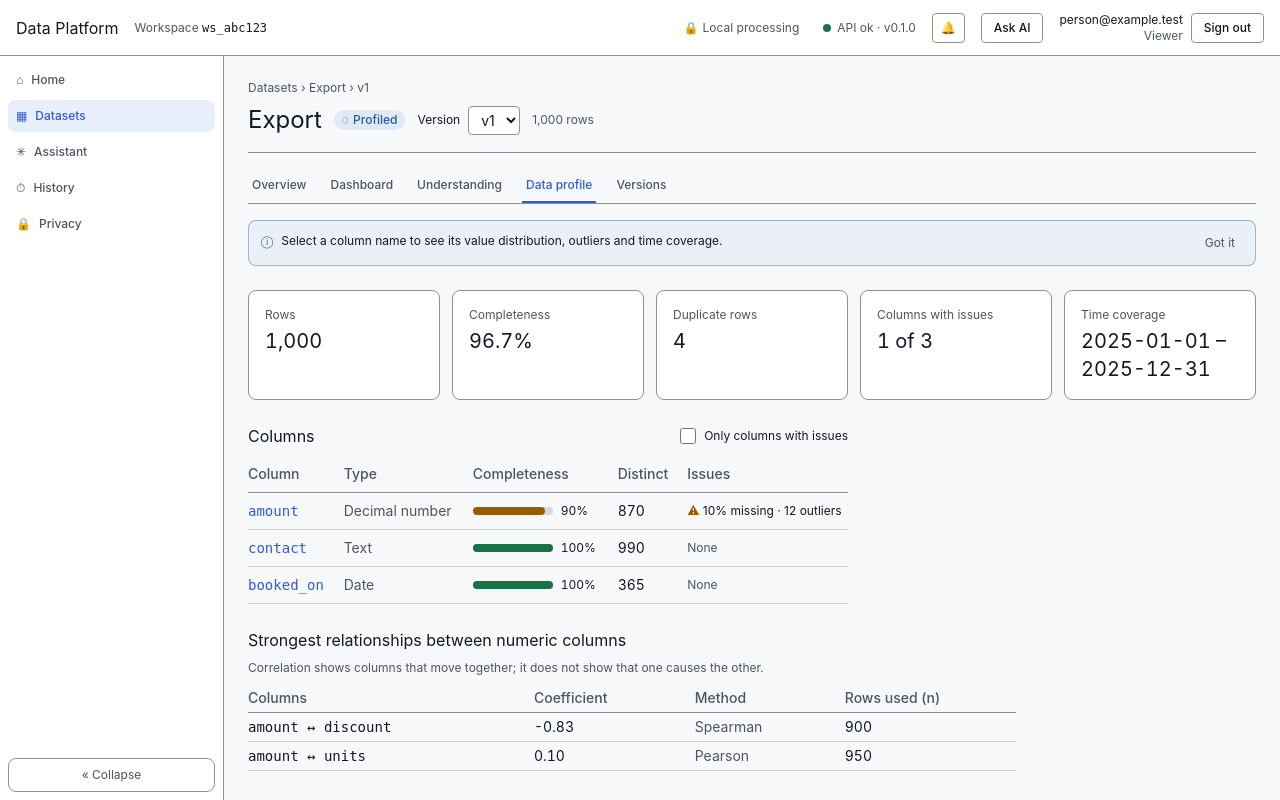
ProfileViewer (TASK-UI-006) › lists columns with type, completeness, distinct count and issues; filters by issues
Expected: the row "amount Decimal number 90% 870 ⚠ 10% missing · 12 outliers" is shown, [248,493,848,530]
Click the checkbox labelled "Only columns with issues".
click(688, 436)  # box [680,428,696,444]
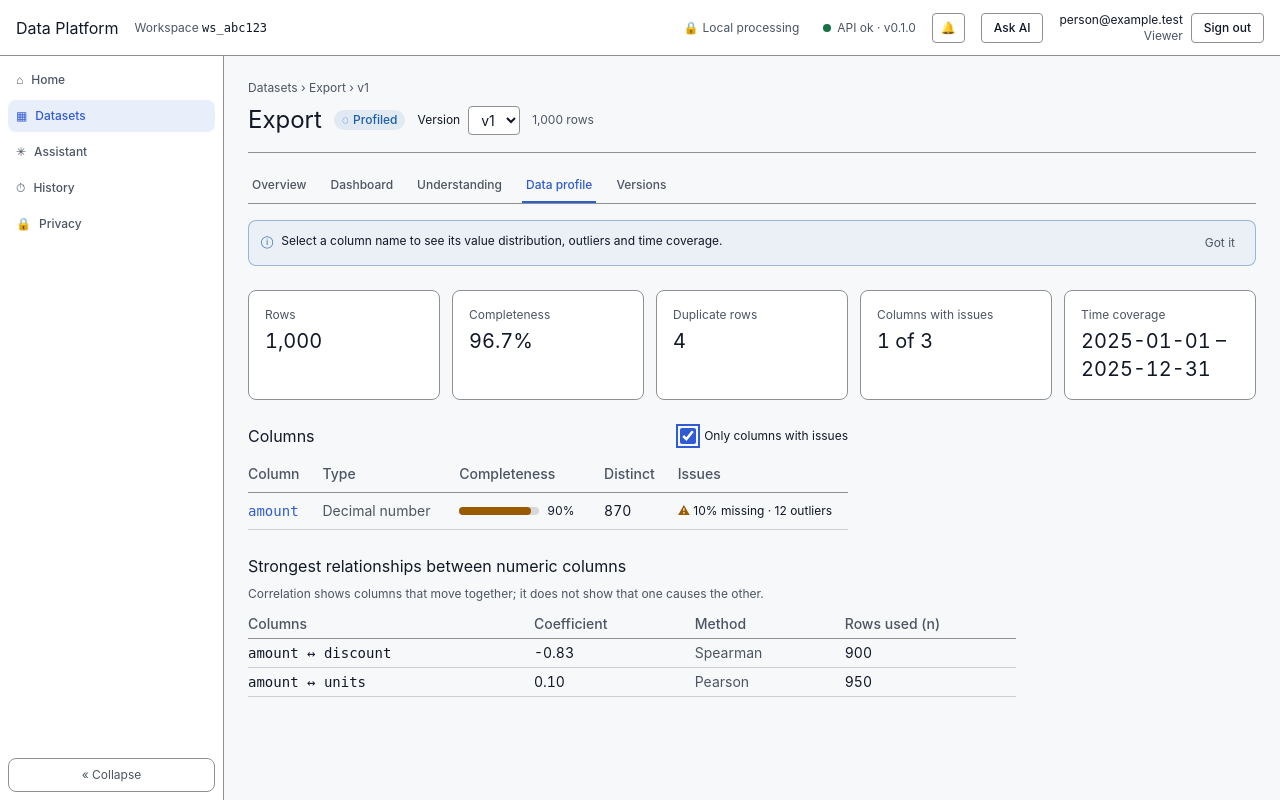
Expected: the button "contact" is gone
